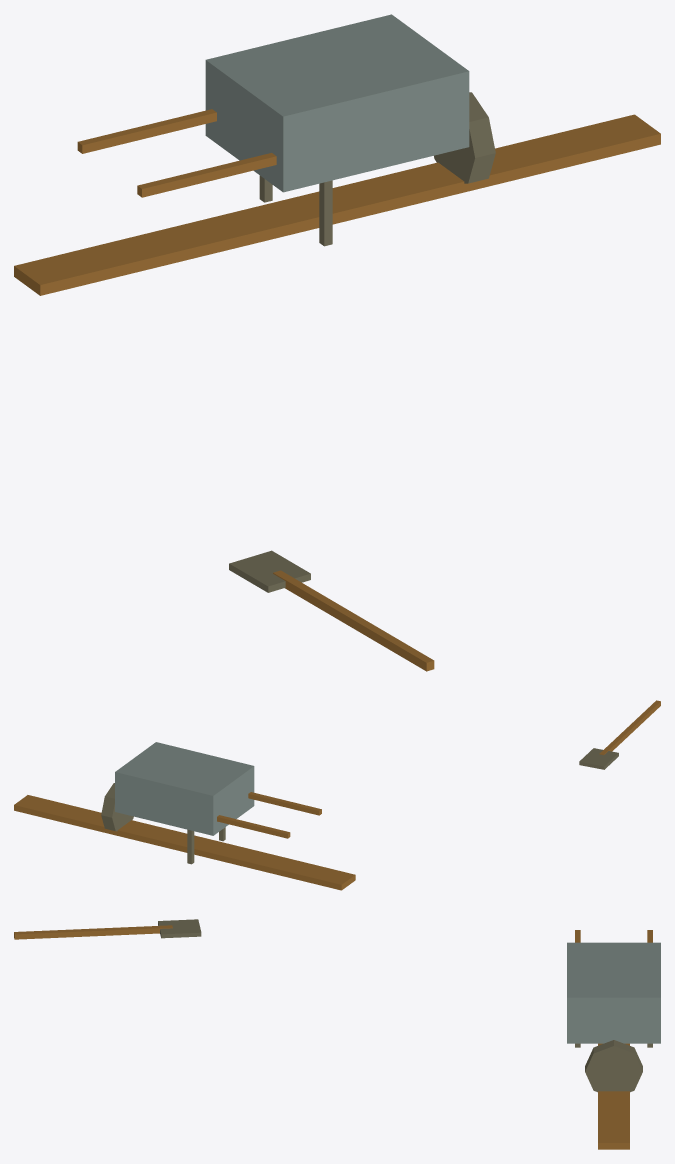
Rendered from SM_ObraHerramientas_v4_8m_LOD0.fbx.
The picture shows the model from 3 angles, top to bottom: view 1: azimuth 30°, elevation 25°; view 2: azimuth 150°, elevation 25°; view 3: azimuth 270°, elevation 25°; orthographic projection. The views are drawn at different scales.
Parts seen in each view (by area): view 1: SM_obra_curso_v18_LOD0; view 2: SM_obra_curso_v18_LOD0; view 3: SM_obra_curso_v18_LOD0.
Boxes of the visible parts, x1,y1,x2,y2 form: SM_obra_curso_v18_LOD0: (14, 14, 660, 671); SM_obra_curso_v18_LOD0: (14, 700, 660, 890); SM_obra_curso_v18_LOD0: (14, 919, 660, 1149).
Bounding box in the file's own units: 3.68 × 0.675 × 4.47.
